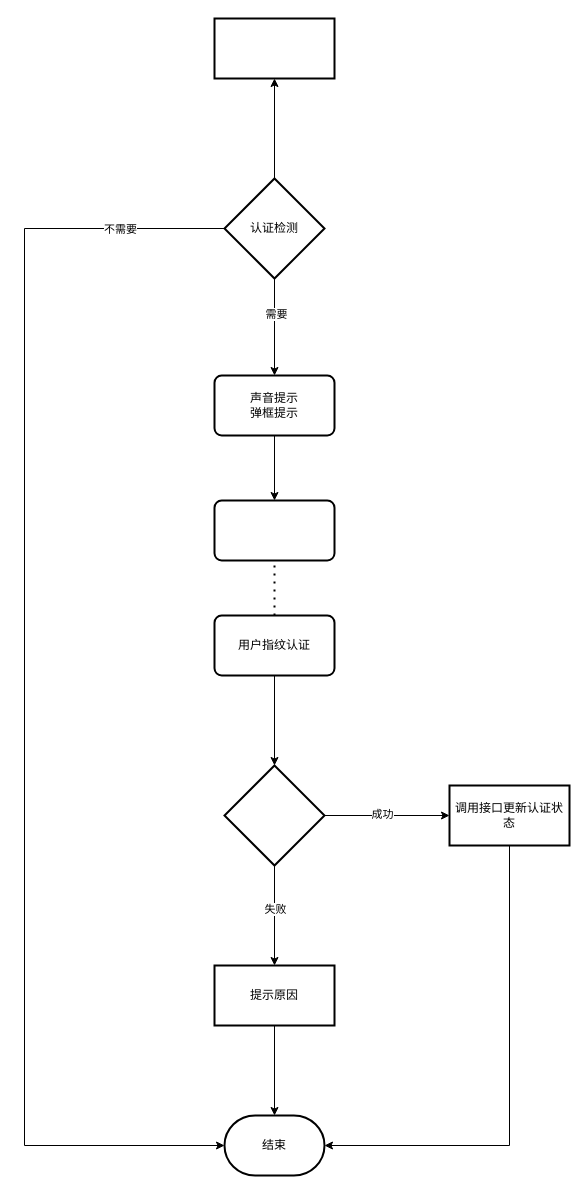
This 588x1193 diagram has some shape labels left out. The box of each missing label's shape, as (x1, y1, x2, y2) in pixels:
位置更新: (213, 17, 335, 79)
检测认证结果: (223, 764, 325, 866)
调用接口 设置认证状态: (213, 499, 335, 561)
